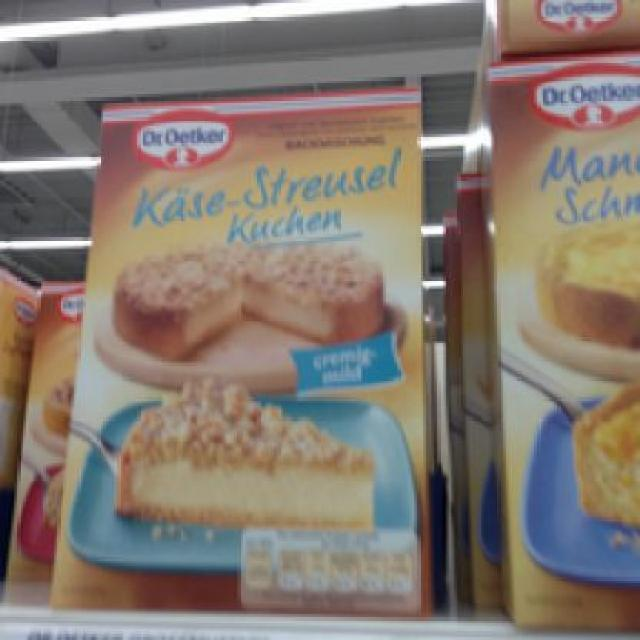Cake: (51, 82, 432, 628), (457, 57, 637, 632)
